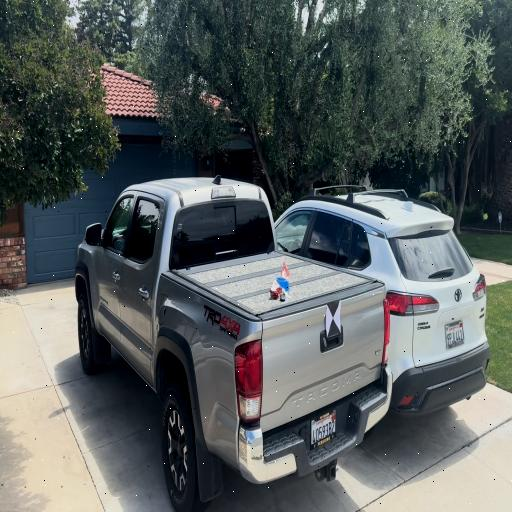target: (326, 299, 341, 339)
